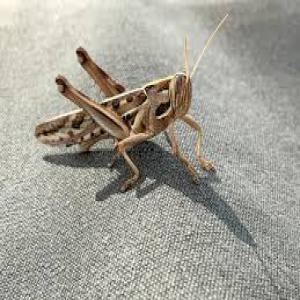locust: (32, 16, 233, 199)
